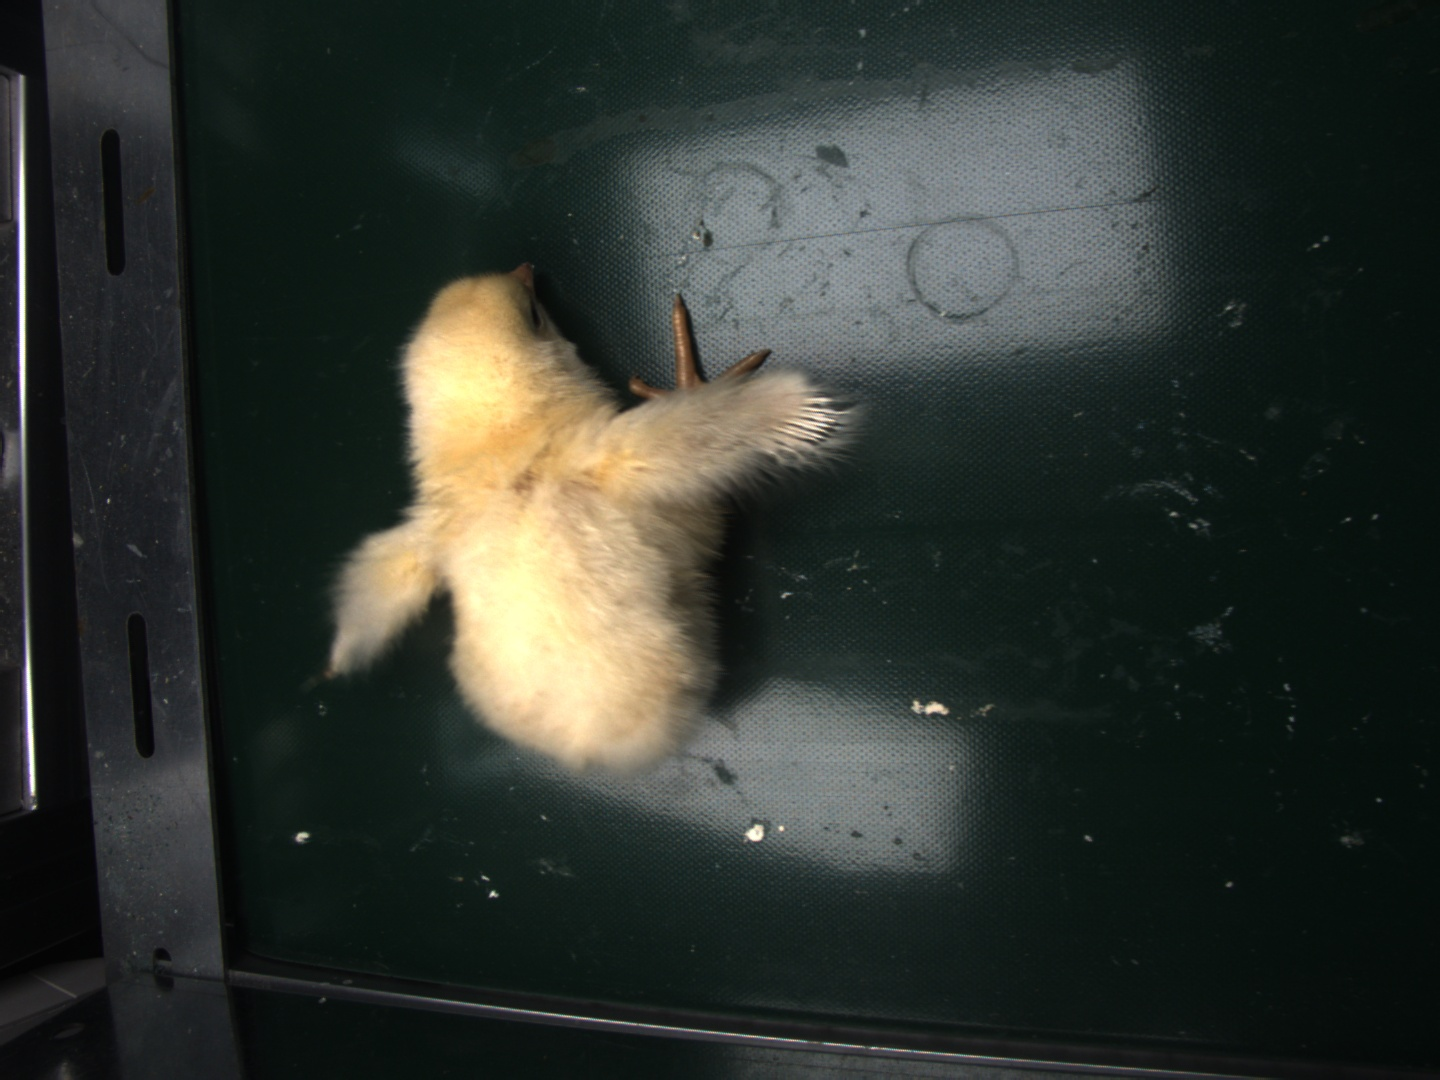male: (769, 387, 836, 455)
